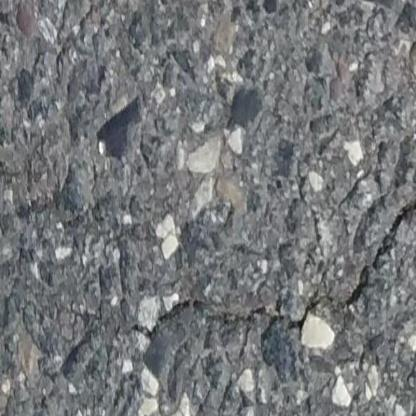Cracks: (130, 293, 326, 370), (344, 156, 416, 312)
